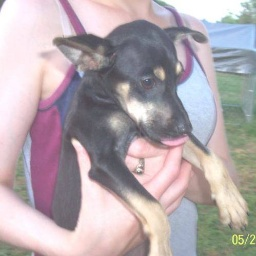dog: (46, 19, 250, 256)
